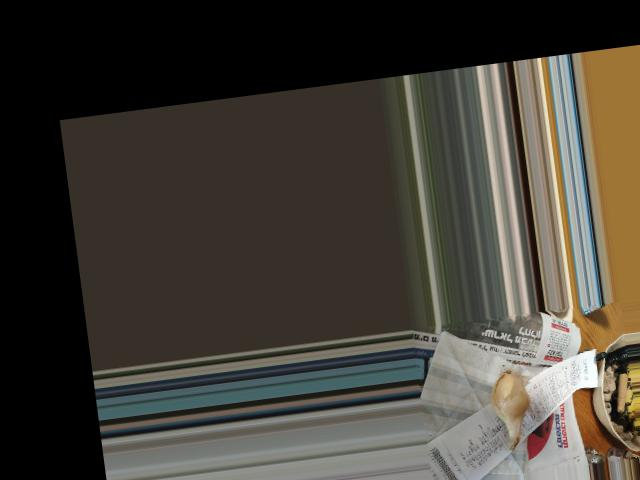onion: (492, 370, 529, 424)
